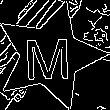M_N: (25, 30, 75, 82)
